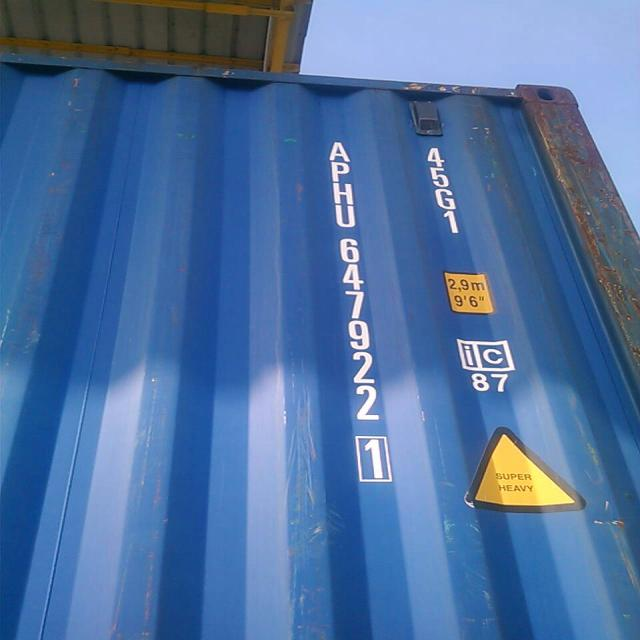rust: (518, 81, 640, 354)
